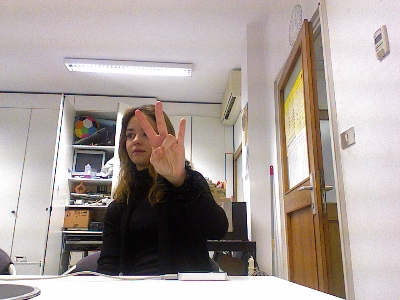观音: (133, 100, 187, 181)
